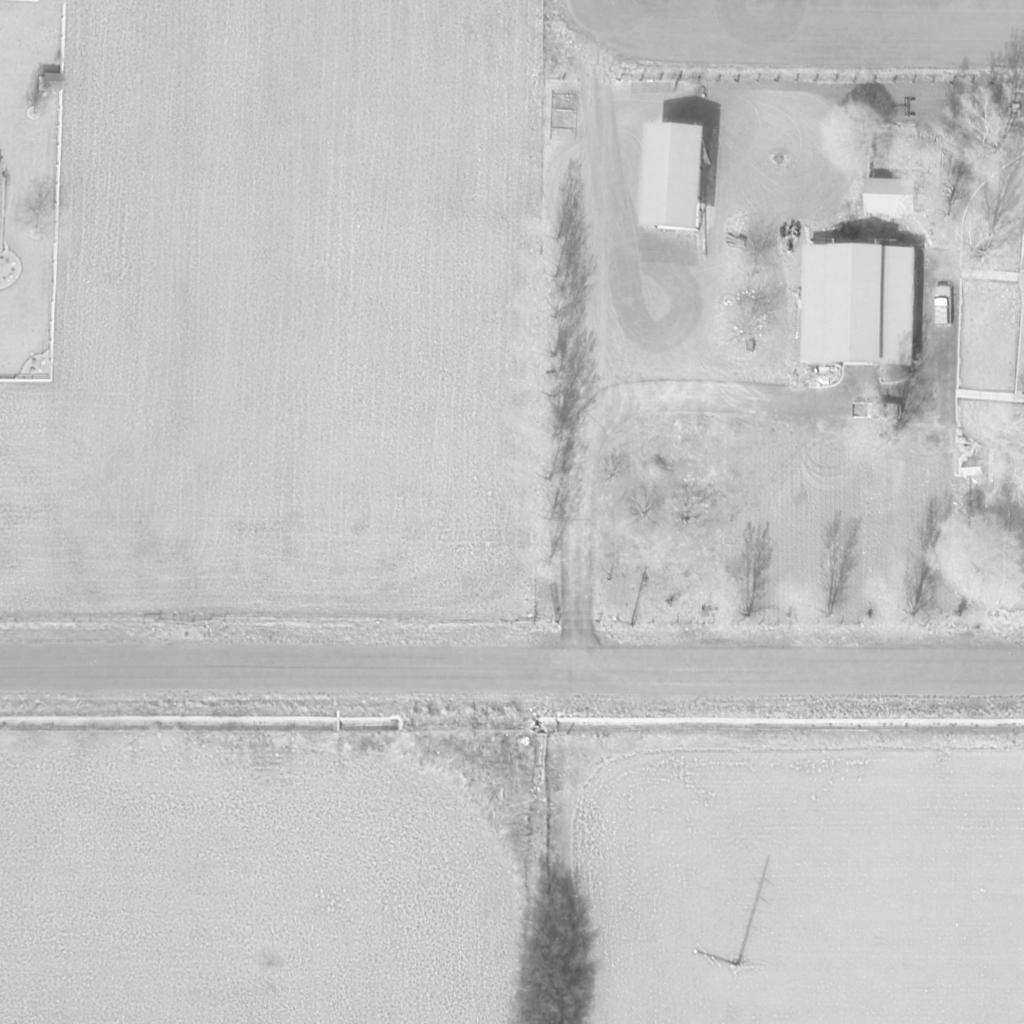vehicle: (852, 402, 902, 422), (932, 285, 954, 329)
